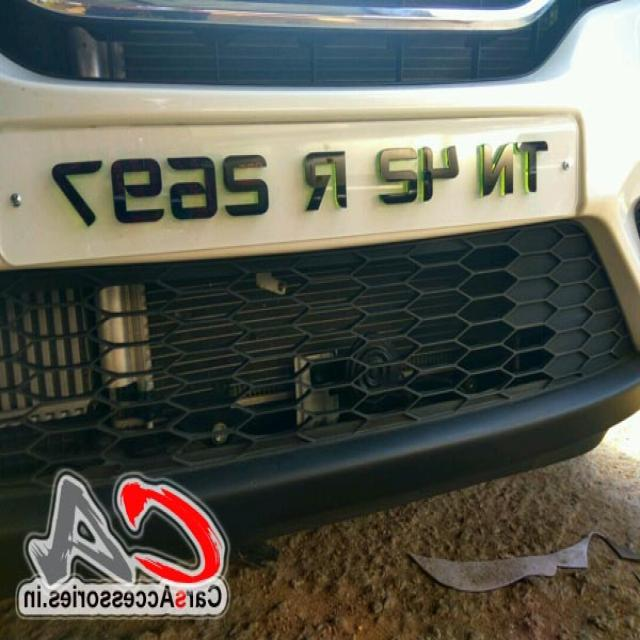number-plate: (27, 95, 582, 279)
